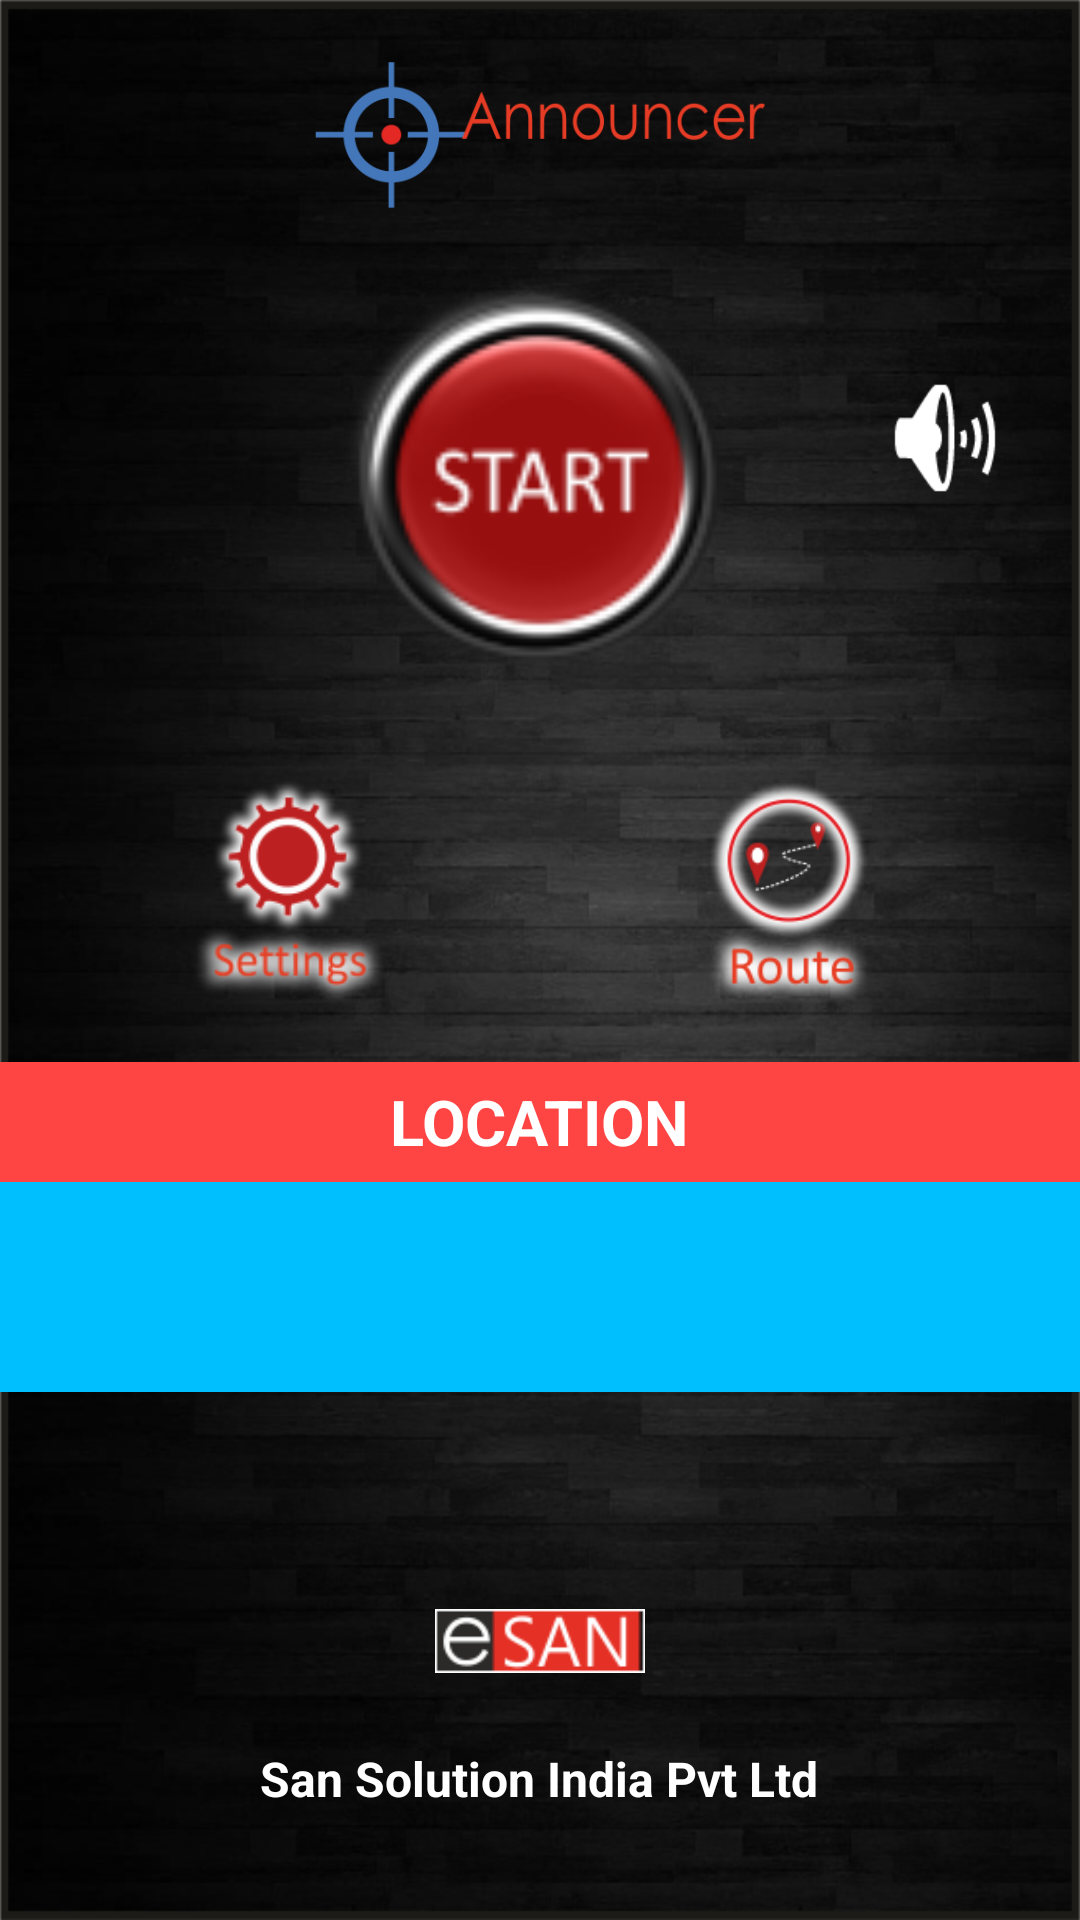

Screen size 1080*1920. Icon name, then its box in pixels as detection(x1, y1, x2, y2):
lock silent mode off: detection(894, 384, 996, 492)
